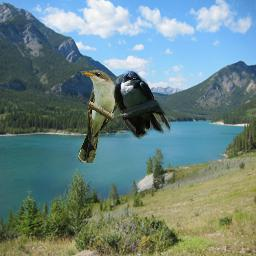Cuckoo: (78, 70, 119, 163)
Swallow: (112, 69, 173, 142)
